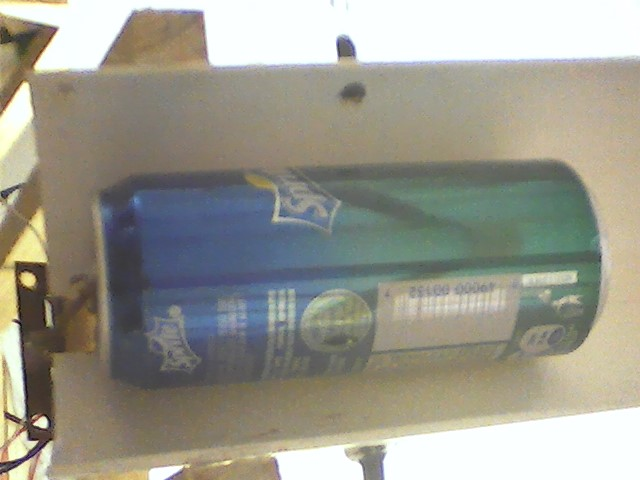lata: (89, 158, 605, 388)
